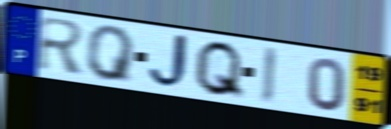0: (304, 54, 348, 113)
I: (260, 44, 280, 106)
J: (146, 32, 195, 91)
Q: (192, 39, 247, 102), (85, 25, 138, 85)
R: (36, 14, 87, 77)
